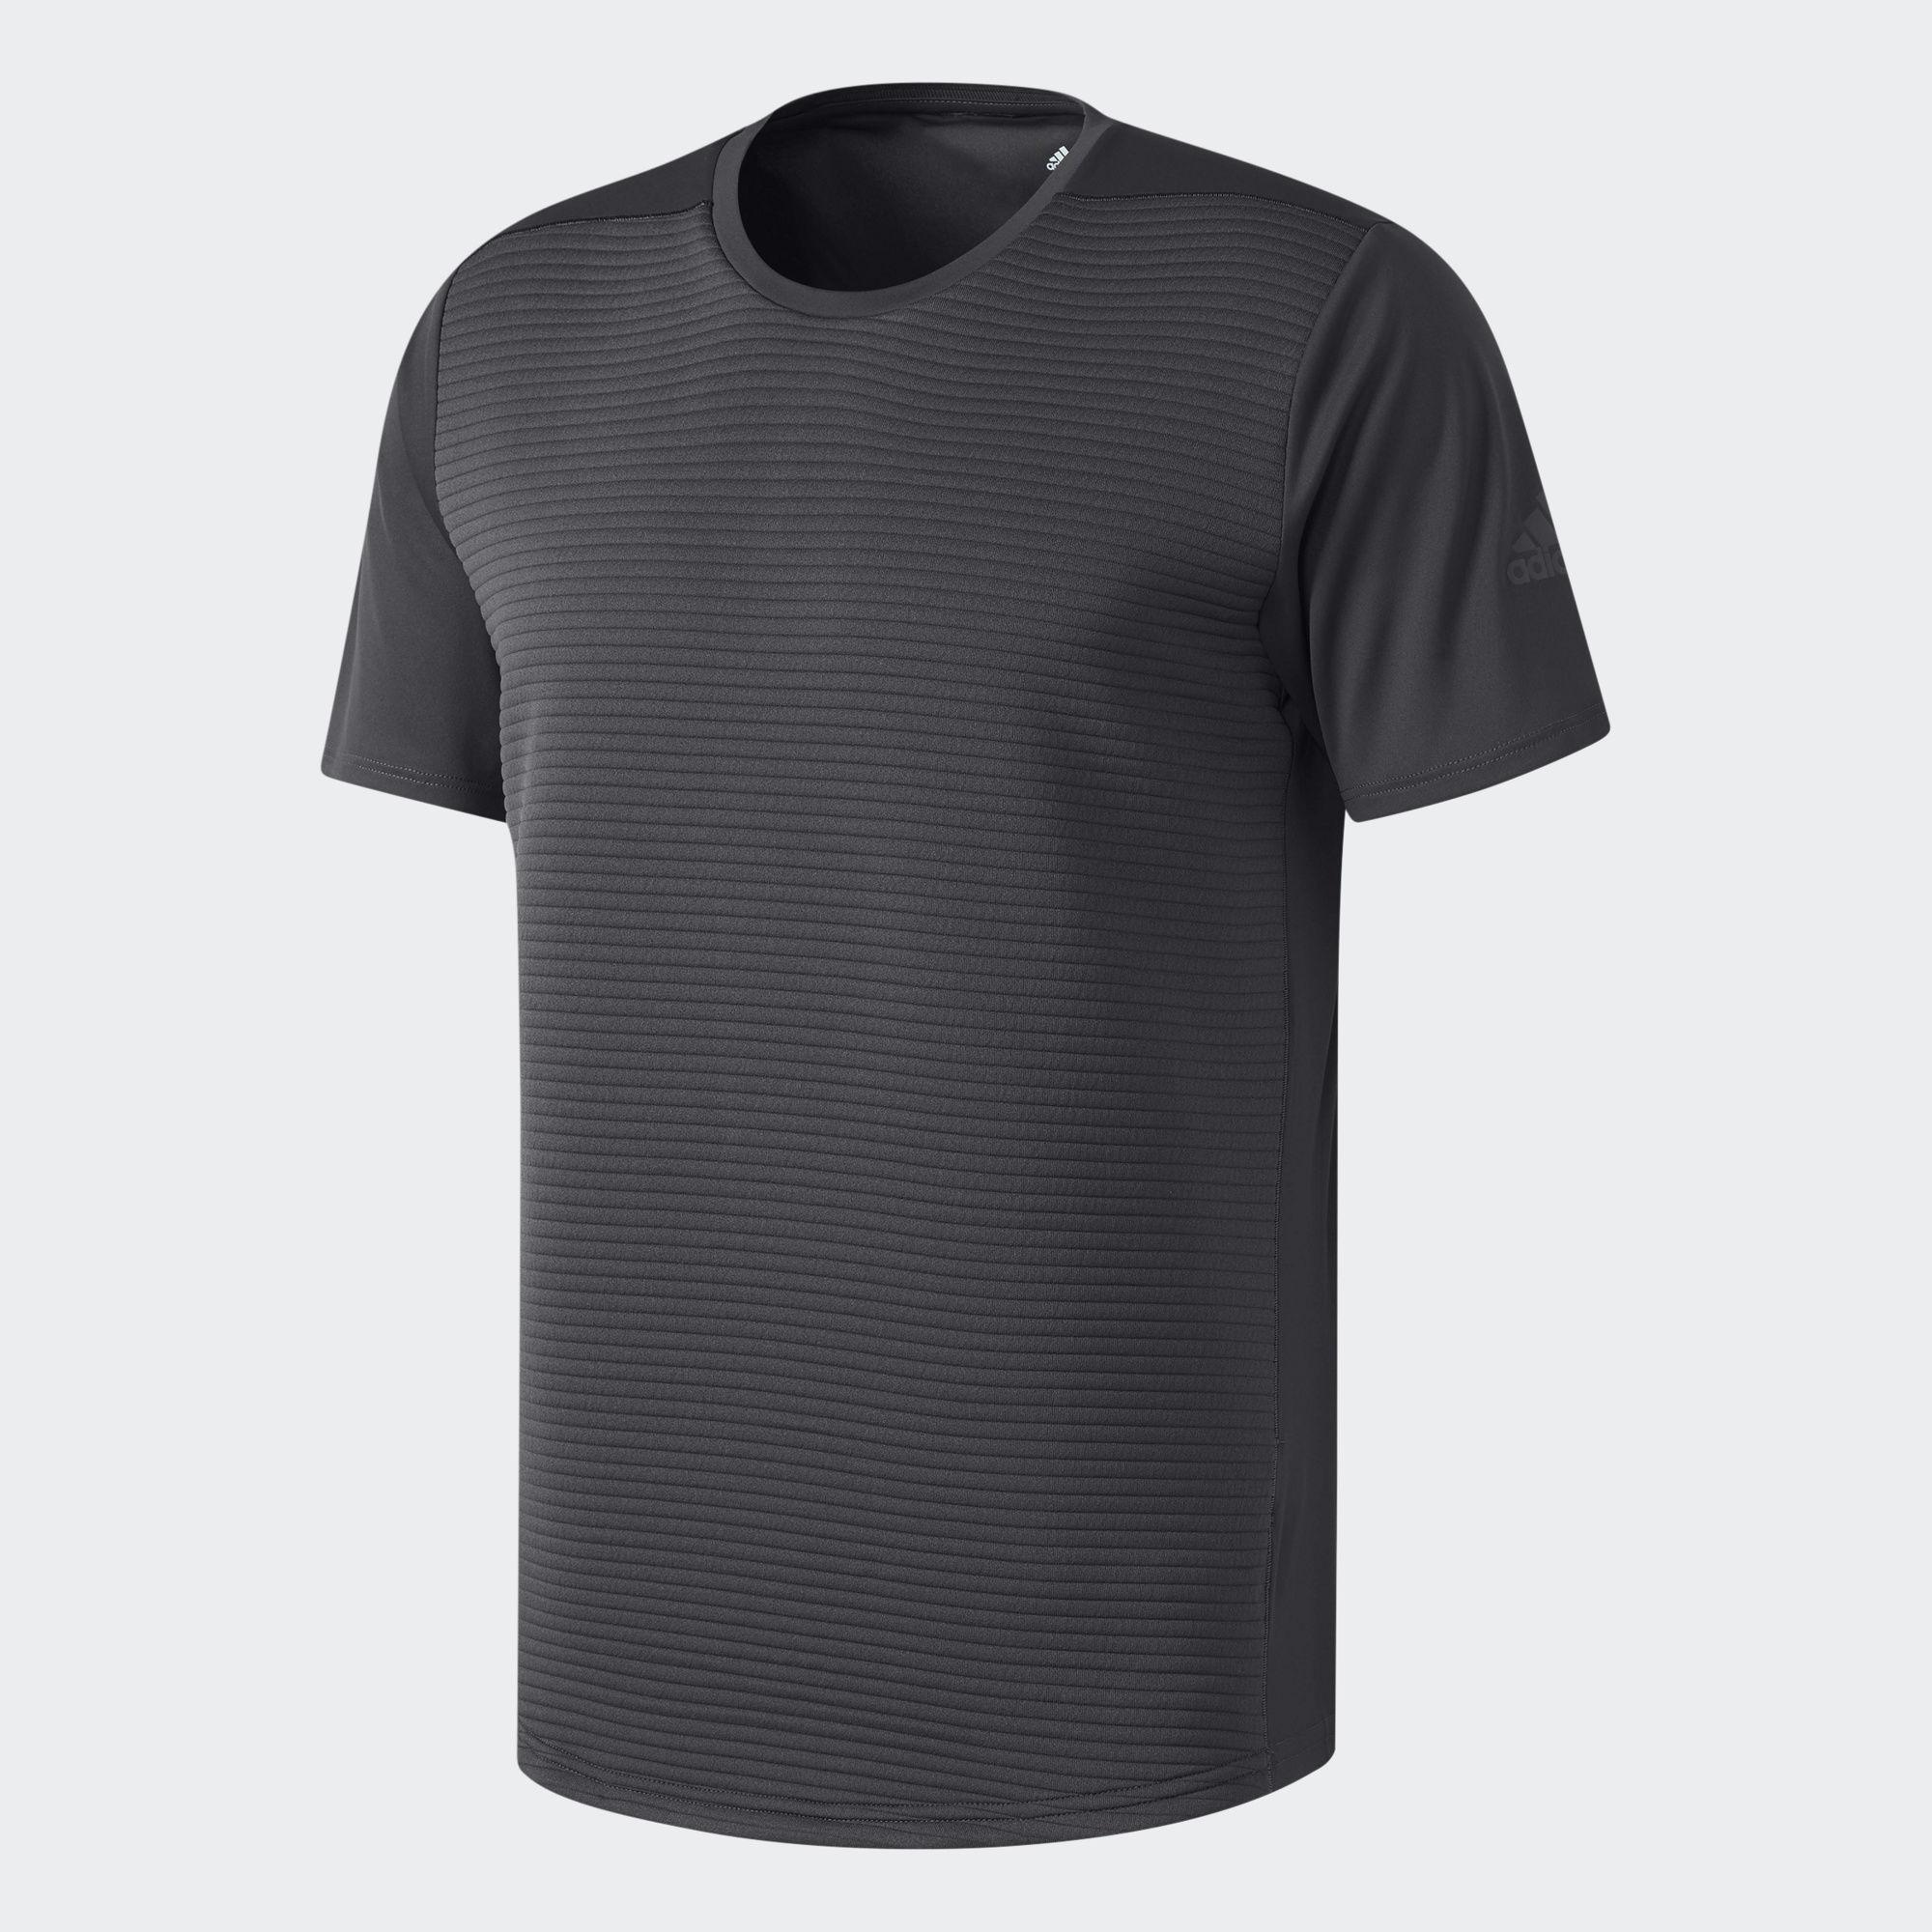teeshirt: (196, 58, 1624, 1930)
